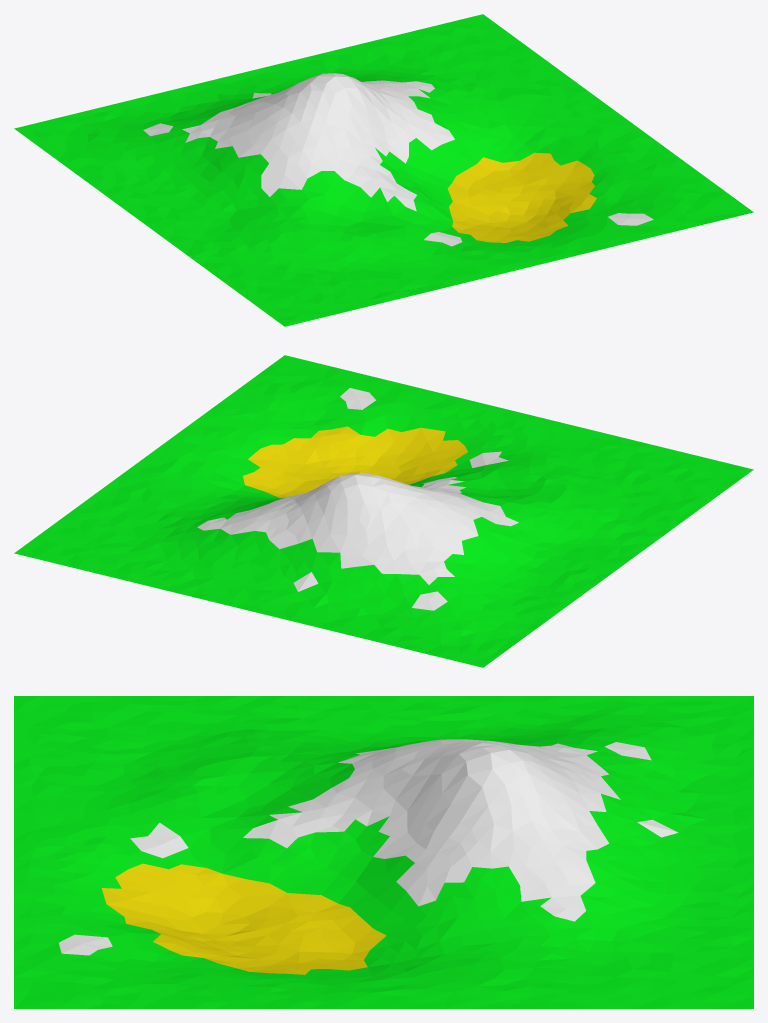
The model's file is CPT_Terrain_L_d_17_LOD.fbx.
3 renders of one model, top to bottom at view 1: azimuth 30°, elevation 25°; view 2: azimuth 150°, elevation 25°; view 3: azimuth 270°, elevation 25°, orthographic. The views are drawn at different scales.
Visible parts, largest first — view 1: CPT_Terrain_L_d_17_LOD0; view 2: CPT_Terrain_L_d_17_LOD0; view 3: CPT_Terrain_L_d_17_LOD0.
Part boxes in pixels (left/top/right/bottom): CPT_Terrain_L_d_17_LOD0: left=14, top=14, right=753, bottom=326; CPT_Terrain_L_d_17_LOD0: left=14, top=355, right=753, bottom=667; CPT_Terrain_L_d_17_LOD0: left=14, top=696, right=753, bottom=1008.
Size of what is drawn, in the model's own units: 10000 by 1838 by 10000.
